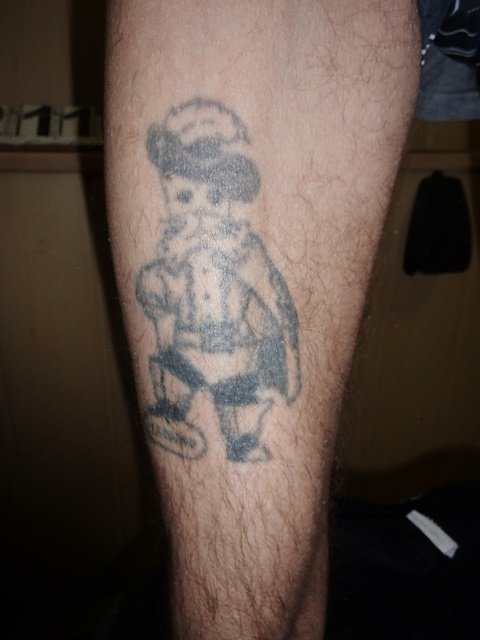tatu8_kot: (117, 93, 310, 471)
